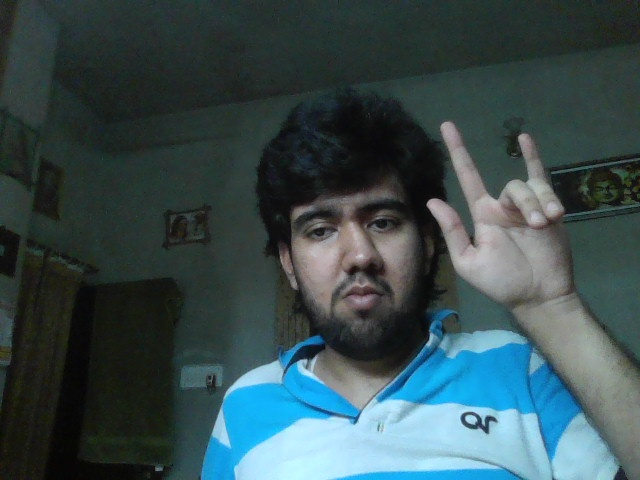ILoveYou: (426, 121, 582, 301)
